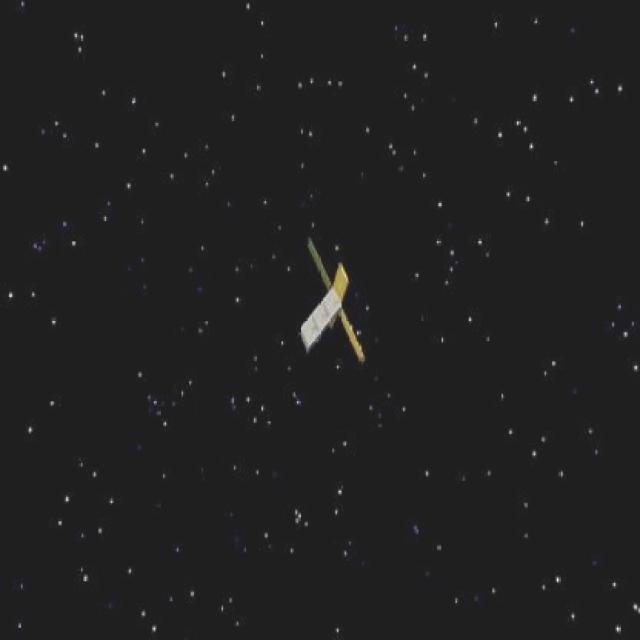satellite: (289, 240, 373, 372)
